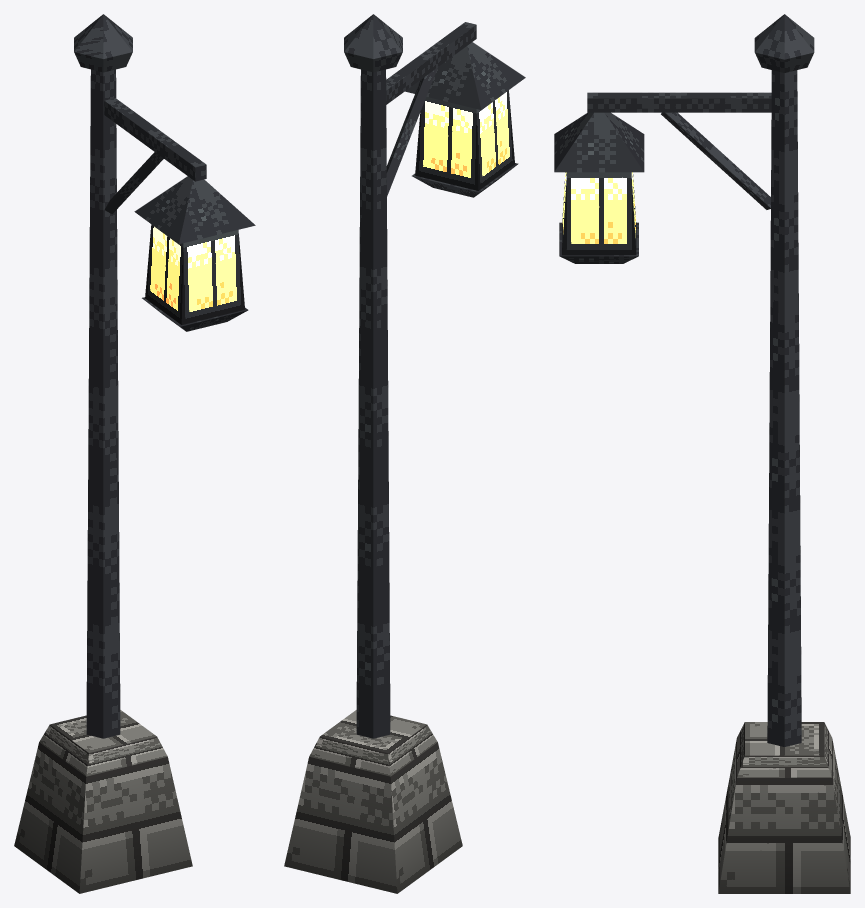
Rendered from lamp_post.glb.
3 renders of one model, left to right at view 1: azimuth 30°, elevation 25°; view 2: azimuth 150°, elevation 25°; view 3: azimuth 270°, elevation 25°, orthographic.
Visible parts, largest first — view 1: lamp_post; view 2: lamp_post; view 3: lamp_post.
Part boxes in pixels (left/top/right/bottom): lamp_post: left=14, top=14, right=255, bottom=893; lamp_post: left=284, top=14, right=525, bottom=893; lamp_post: left=554, top=14, right=850, bottom=893.
Size of the model in its own units: 0.5 by 3.55 by 1.12.
Materials: 3 (3 with a texture image).
